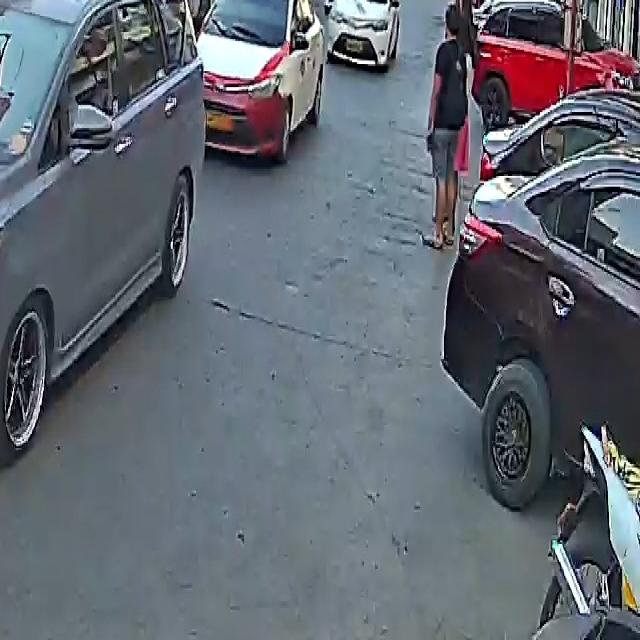car: (0, 0, 217, 460), (442, 71, 640, 528), (471, 0, 639, 130), (198, 0, 329, 164), (324, 0, 404, 66)
